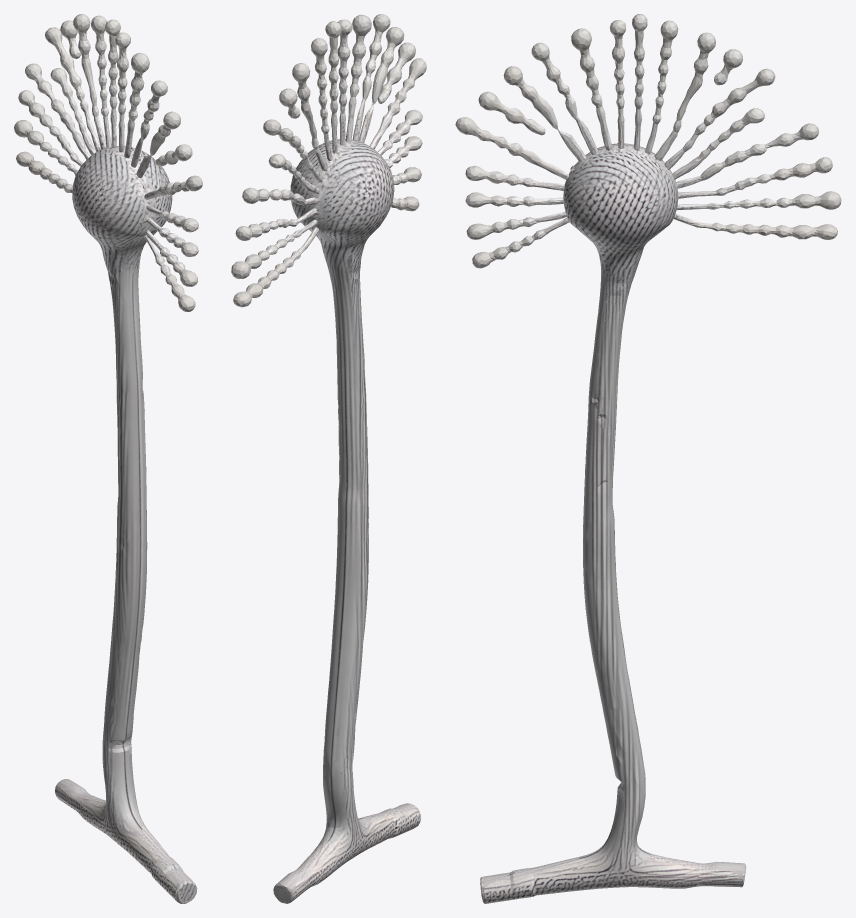
Rendered from base_basic_pbr.fbx.
3 views of the same model, side by side, from view 1: azimuth 30°, elevation 25°; view 2: azimuth 150°, elevation 25°; view 3: azimuth 270°, elevation 25° (orthographic). The views are drawn at different scales.
Parts seen in each view (by area): view 1: model; view 2: model; view 3: model.
Boxes of the visible parts, bbox=[...] form: model: bbox=[14, 14, 202, 903]; model: bbox=[231, 14, 426, 903]; model: bbox=[455, 14, 841, 903].
Size of the model in its own units: 19.38 by 182 by 71.56.
Materials: 1 (1 with a texture image).
